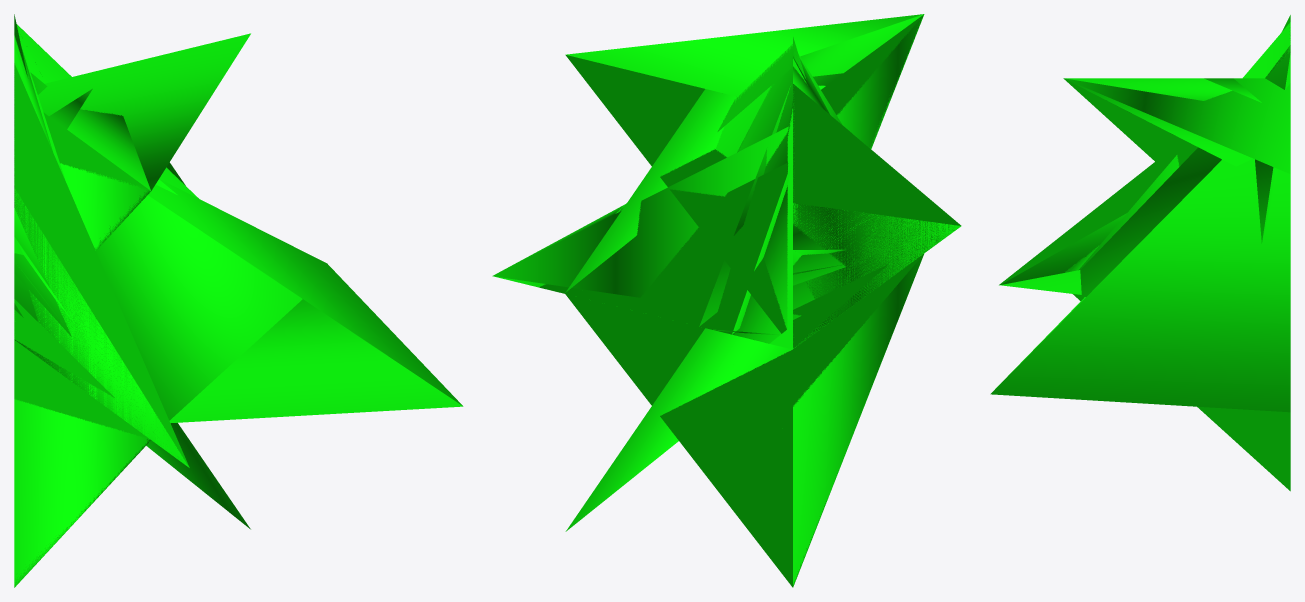
Rendered from boat.fbx.
3 renders of one model, left to right at view 1: azimuth 30°, elevation 25°; view 2: azimuth 150°, elevation 25°; view 3: azimuth 270°, elevation 25°, orthographic. The views are drawn at different scales.
Visible parts, largest first — view 1: Group (×4); view 2: Group (×4); view 3: Group (×3).
Part boxes in pixels (x1,y1,x2,y2): Group (×4): (14, 14, 462, 587); Group (×4): (492, 14, 961, 587); Group (×3): (990, 15, 1290, 491).
Bounding box in the file's own units: 953155 × 1671624 × 953158.
